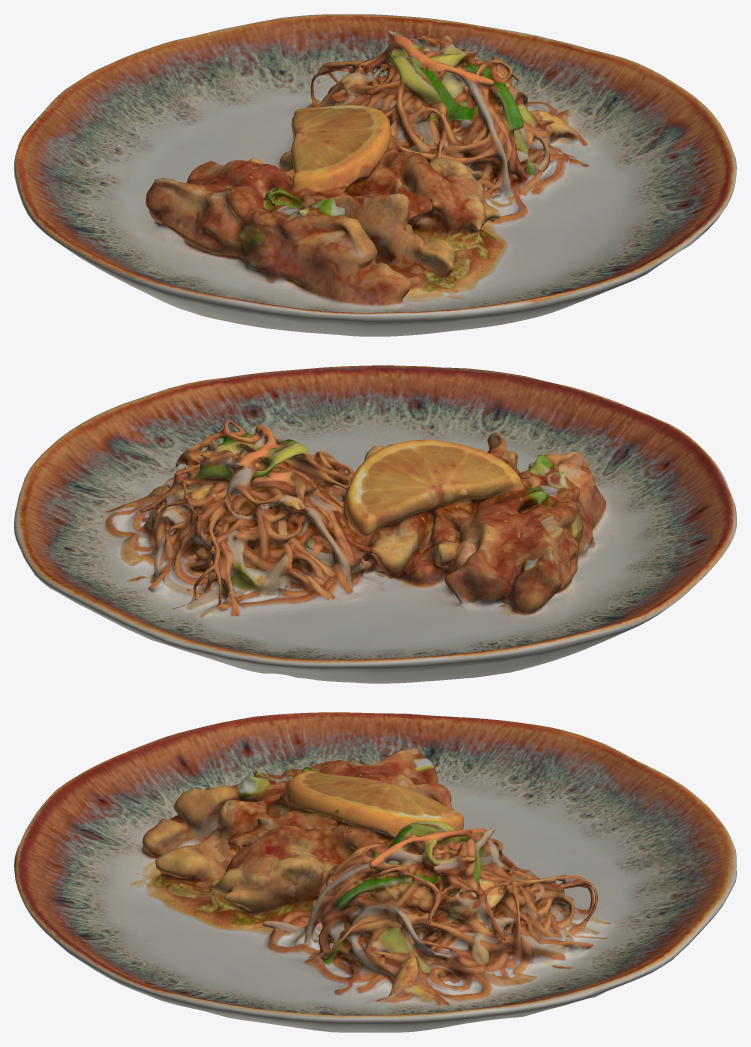
The model's file is 11_Nouilles chicken.glb.
3 views of the same model, one above another, from view 1: azimuth 30°, elevation 25°; view 2: azimuth 150°, elevation 25°; view 3: azimuth 270°, elevation 25° (orthographic).
Visible parts, largest first — view 1: Final; view 2: Final; view 3: Final.
Boxes of the visible parts, x1=… form: Final: x1=14, y1=14, x2=736, y2=336; Final: x1=14, y1=365, x2=736, y2=683; Final: x1=14, y1=712, x2=736, y2=1032.
Size of the model in its own units: 0.1996 by 0.0405 by 0.1988.
Materials: 1 (1 with a texture image).
